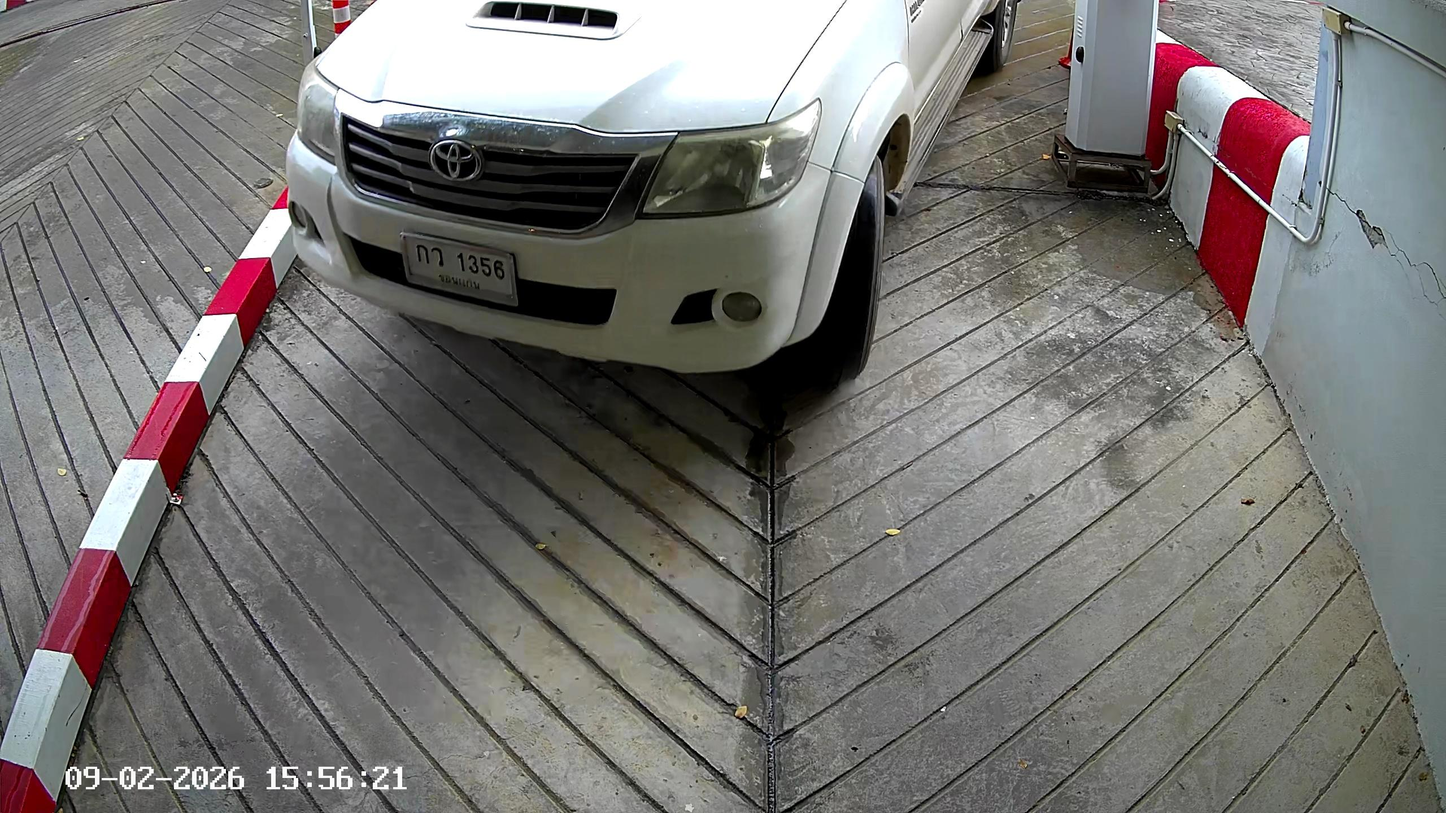car: (285, 3, 1021, 387)
license-plate: (398, 224, 521, 313)
